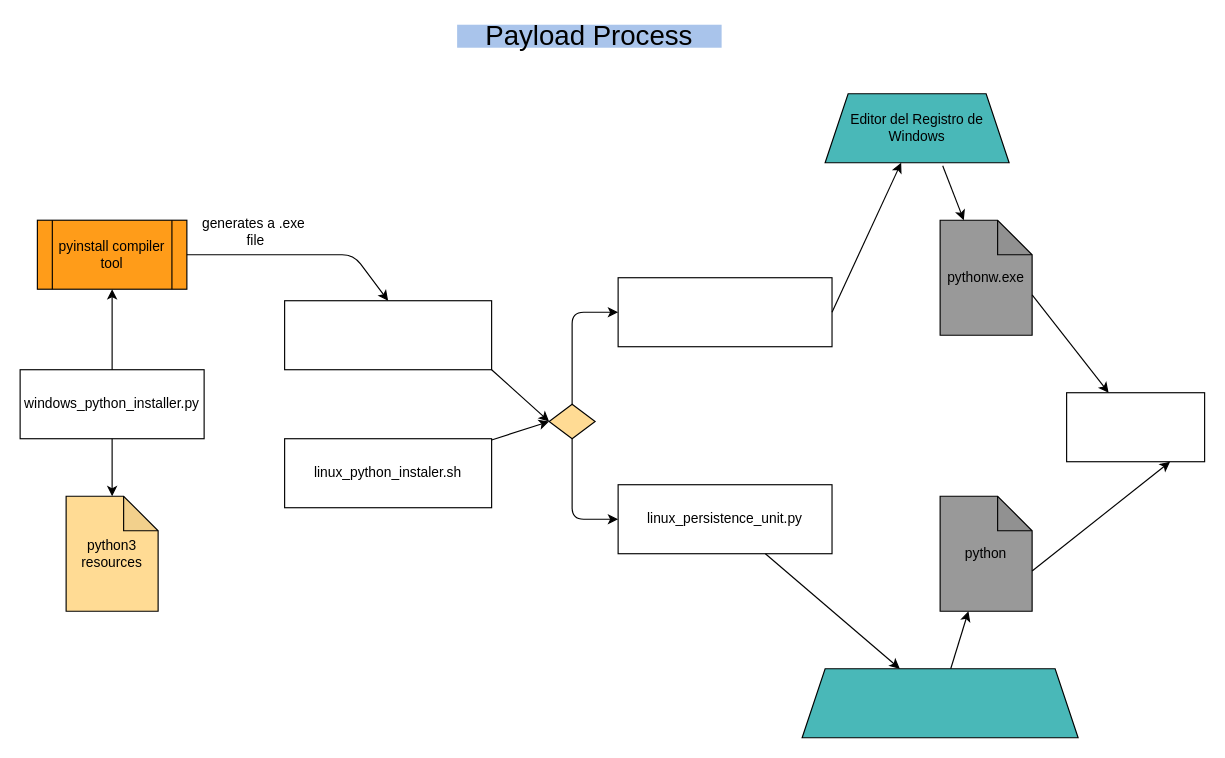
This 1225x758 diagram has some shape labels left out. Here are the shapes that lost their labels. From the top down, the box of each, then its label:
(617, 277, 832, 347): windows_persistence_unit.py
(283, 300, 492, 370): windows_python_installer.exe
(1065, 392, 1205, 462): multi_client_client.py
(801, 668, 1078, 738): /etc/systemd/system/daemon.service
